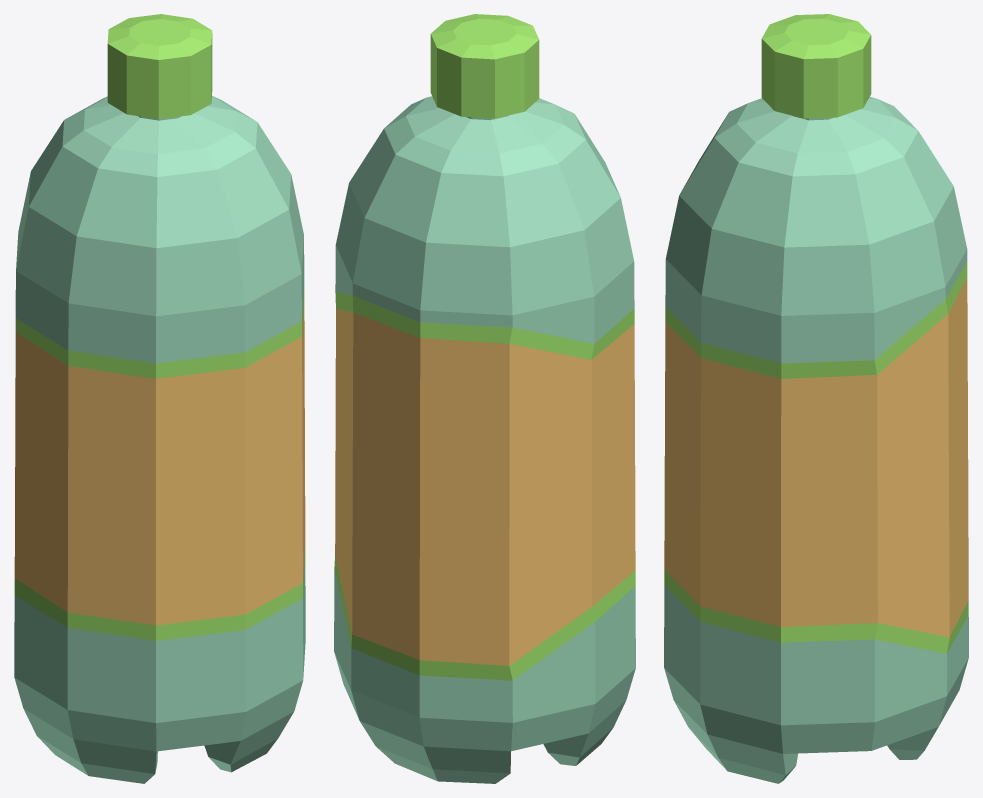
File: Potion.Shield.fbx
The picture shows the model from 3 angles, left to right: view 1: azimuth 30°, elevation 25°; view 2: azimuth 150°, elevation 25°; view 3: azimuth 270°, elevation 25°; orthographic projection.
Visible parts, largest first — view 1: Potion.Turtle; view 2: Potion.Turtle; view 3: Potion.Turtle.
Part boxes in pixels (box(x1,y1,x2,y2)): Potion.Turtle: box(14, 14, 305, 783); Potion.Turtle: box(334, 14, 635, 783); Potion.Turtle: box(664, 14, 968, 783).
Size of the model in its own units: 31.15 by 82.34 by 31.93.
